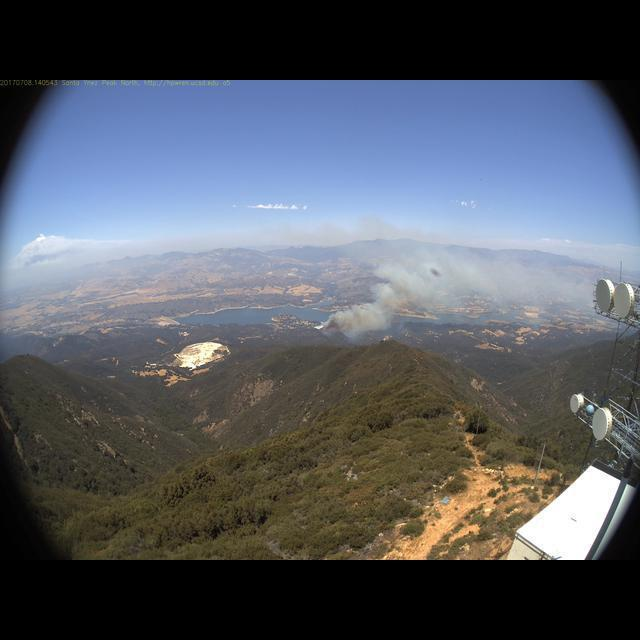Smoke: (309, 231, 566, 346)
